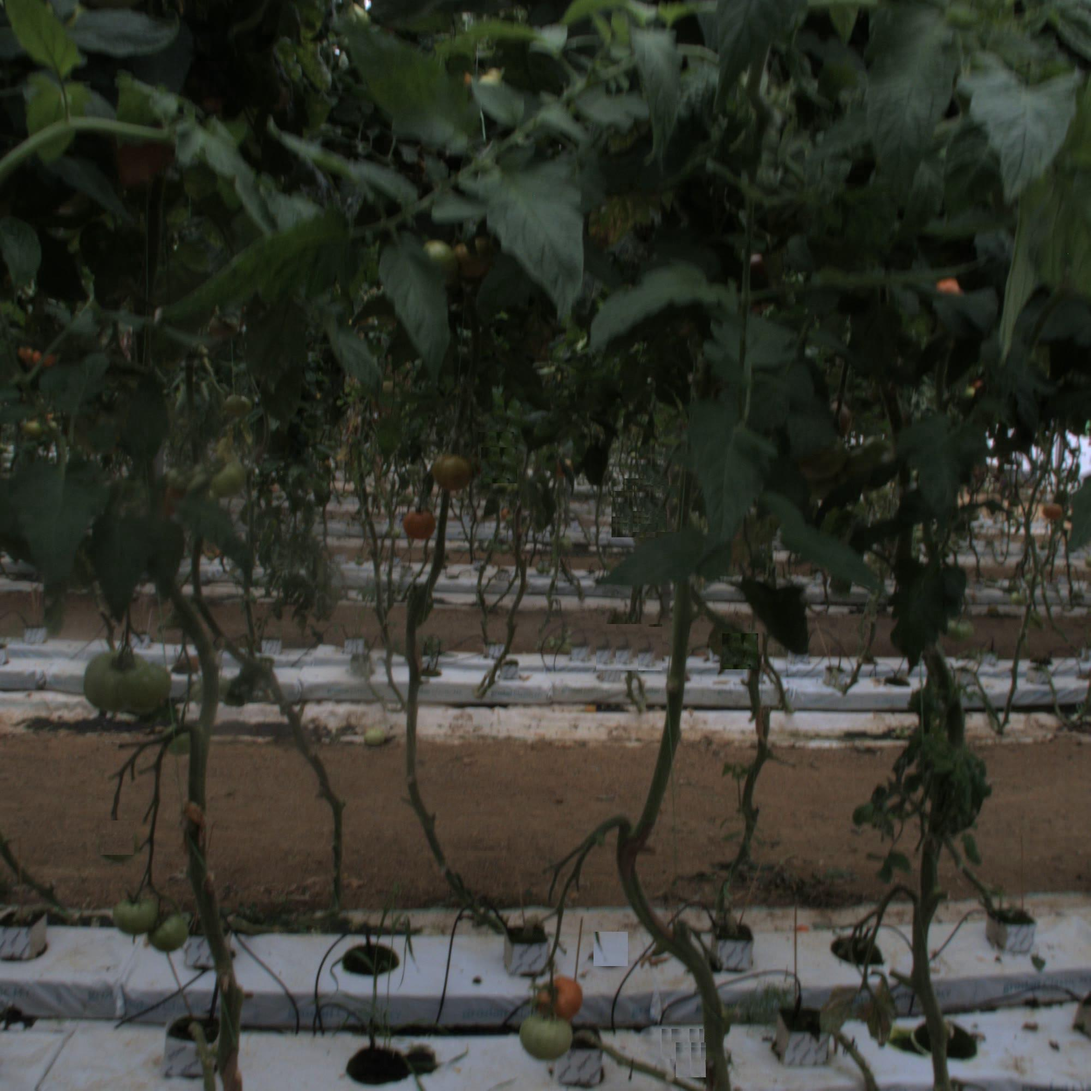fully-ripe: (539, 975, 584, 1020), (400, 507, 436, 543)
semi-ripe: (432, 454, 470, 492)
unripe: (87, 643, 165, 720), (524, 1012, 569, 1057), (143, 910, 188, 955), (111, 891, 156, 936)
